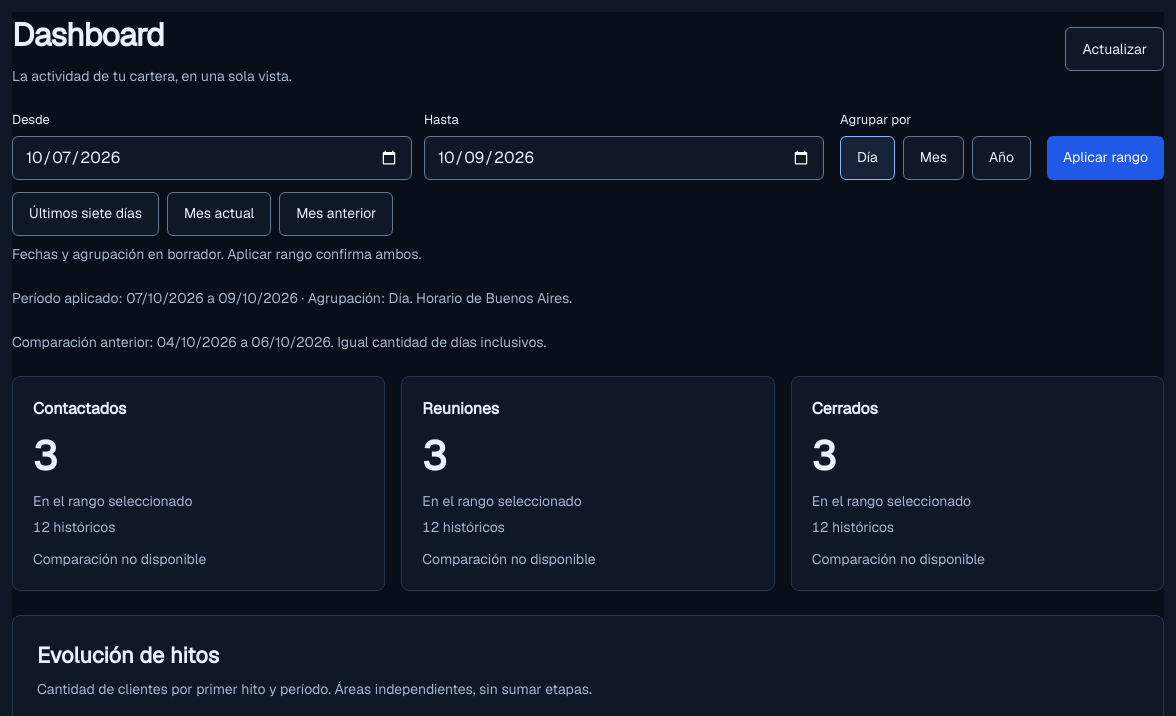
Scenario: dashboard totals, range and accessible periods › rejects reversed draft dates locally and retains entered fields
The width and height of the screenshot is (1176, 716).
In the date field labelled "Hasta": (624,158) [424,136,824,180], type "2026-10-01"
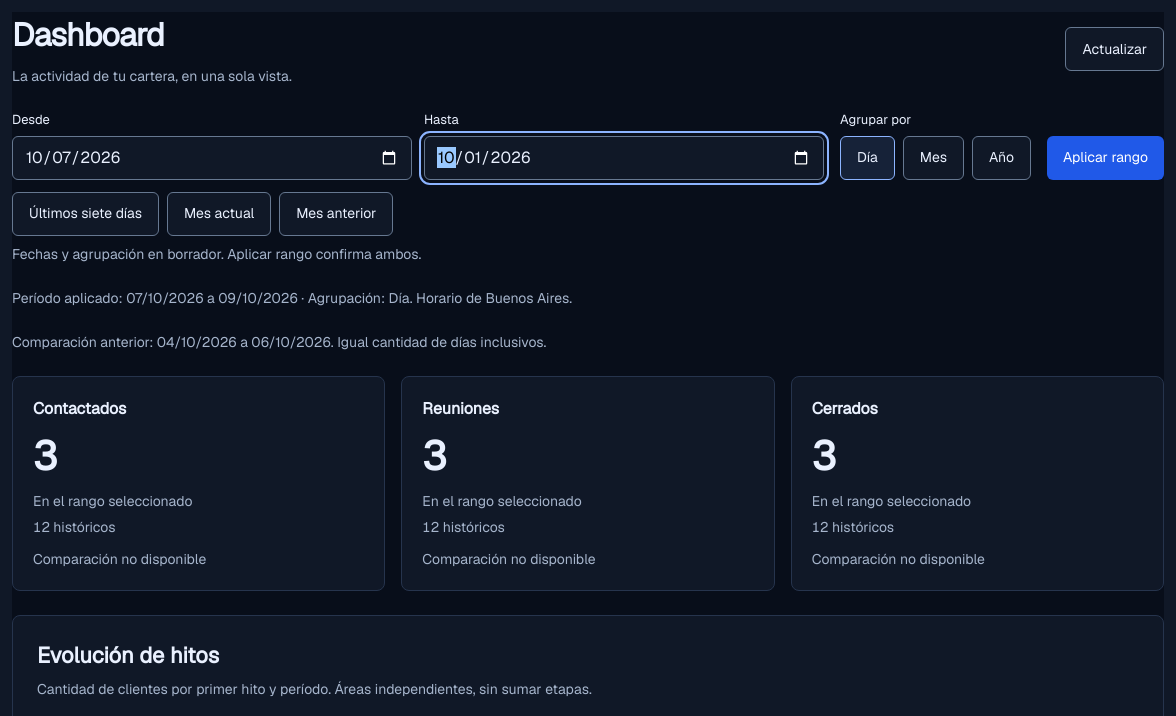
Click the button "Aplicar rango": (1106,158) [1047,136,1164,180]
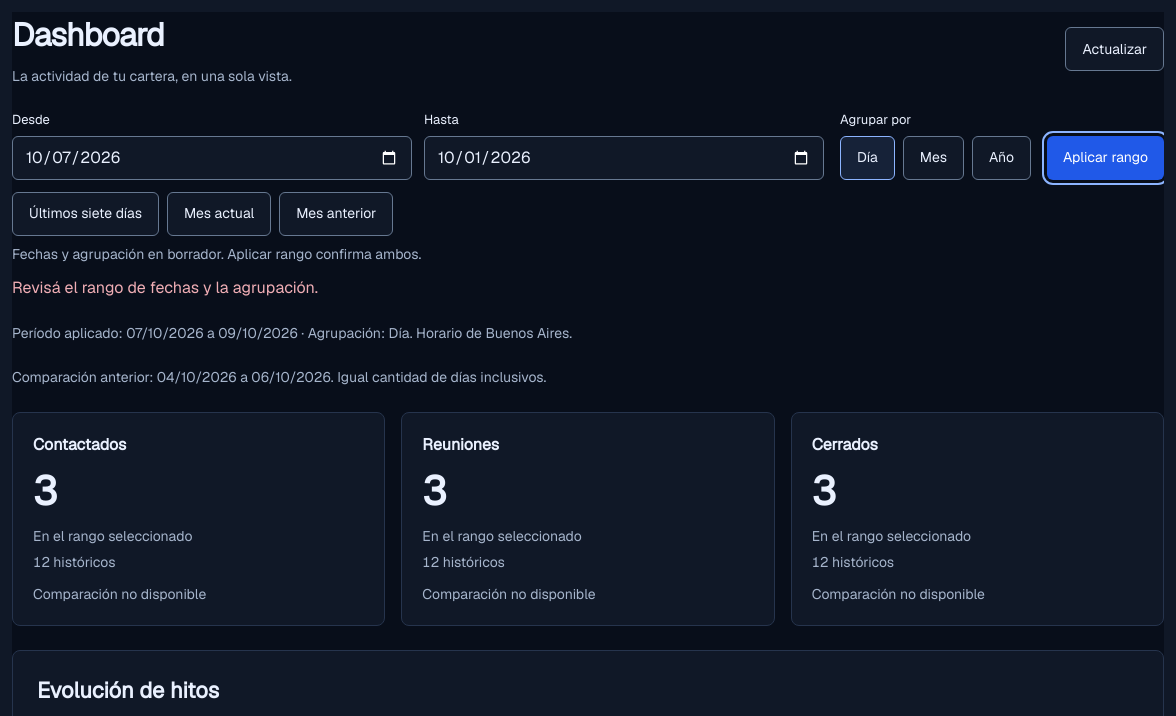
Check: the message shows "Revisá el rango", box [12,277,318,298]
